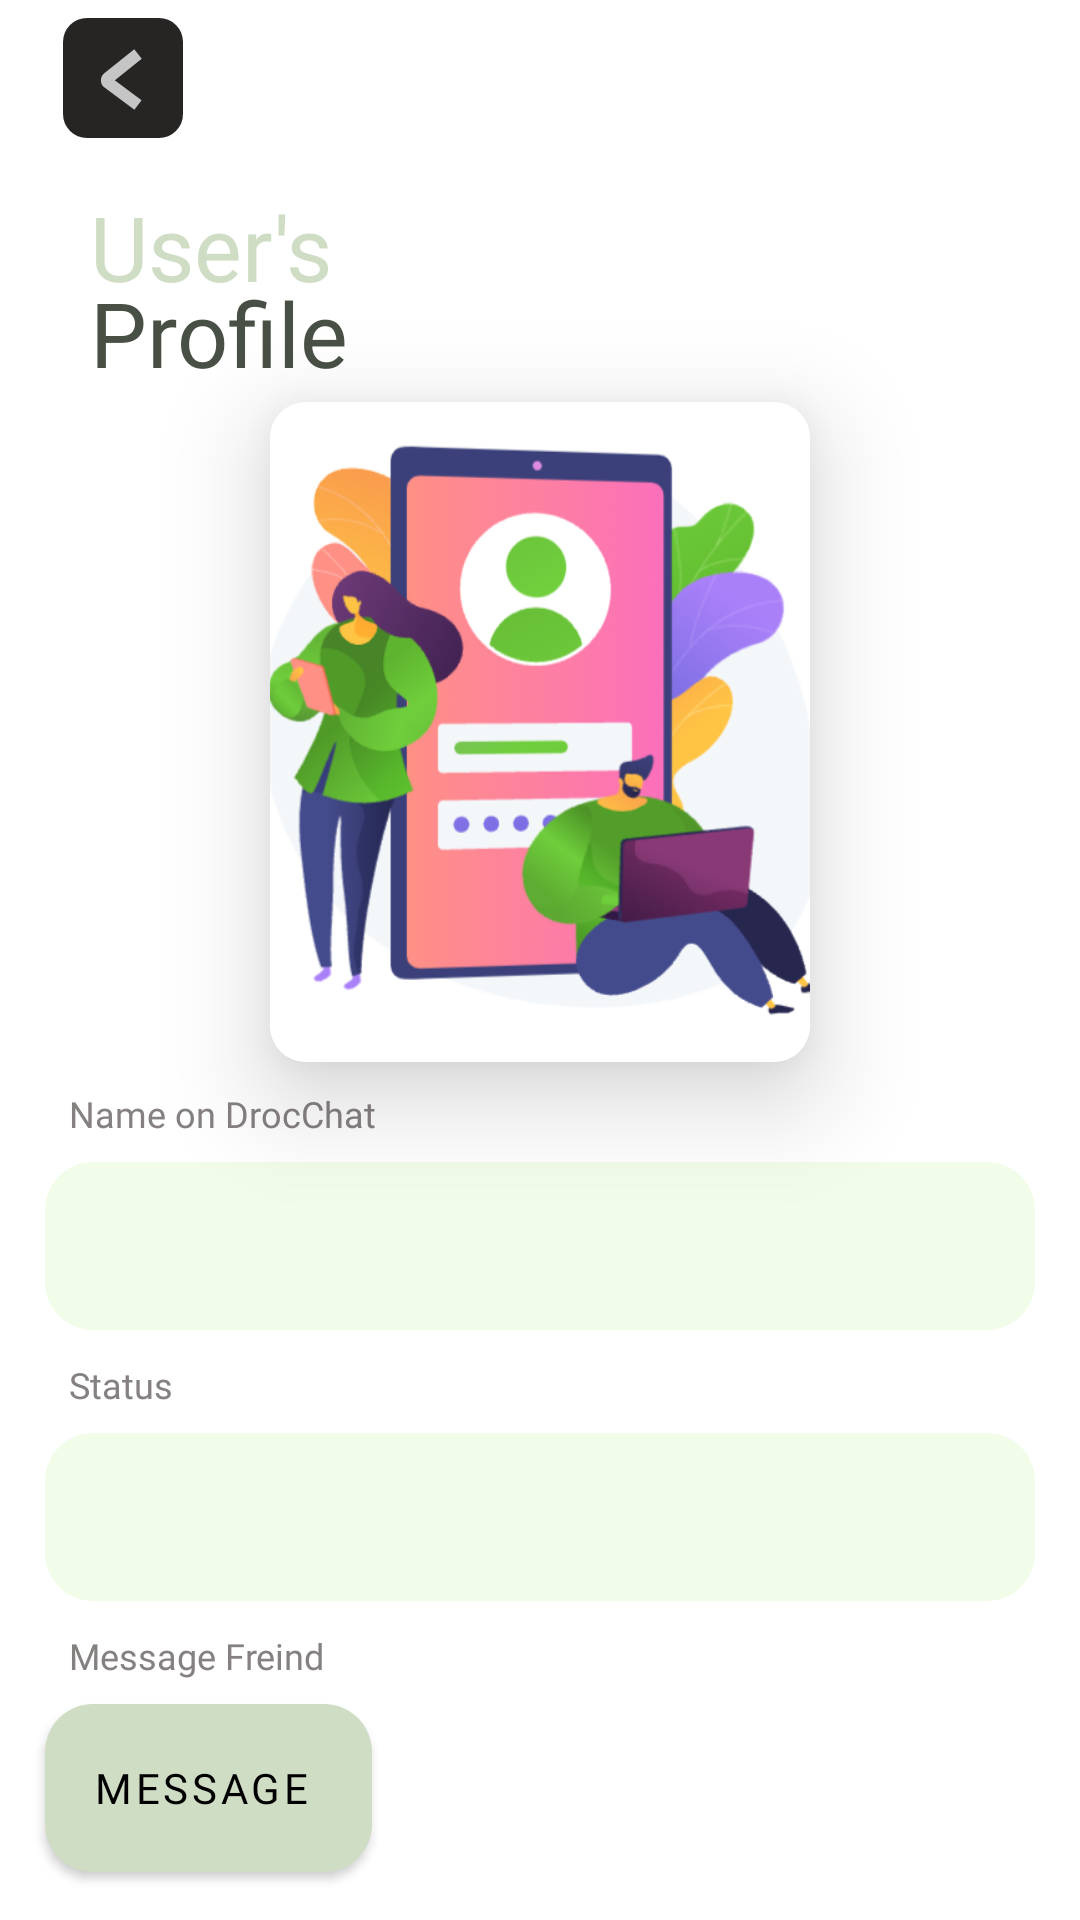

Where to tap for icons on this 1080px x 1920px app screen, as point (x, y):
back rectangled: point (123, 78)
